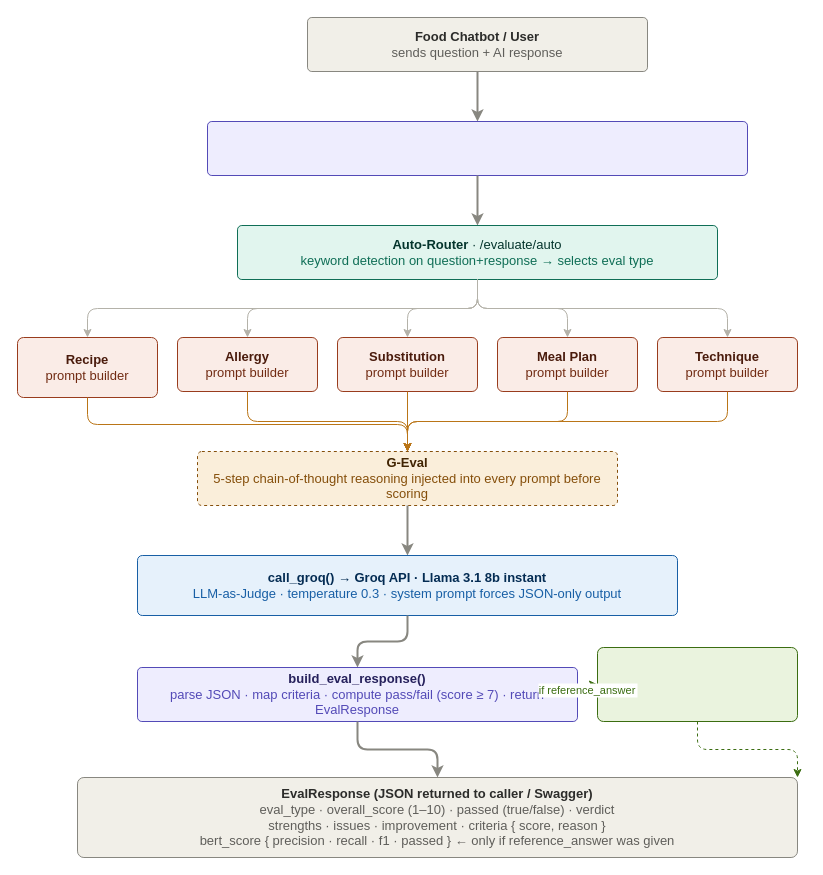
Image size: 823x875. Some labels were removed from this diagram. The box of each missing label's shape, as (x1, y1, x2, y2) in pixels:
BERTScore optional · needs reference_answer · F1 ≥ 0.85 = pass: (596, 646, 798, 722)
FastAPI Backend POST /evaluate/{type} · Pydantic validation · CORS middleware: (206, 120, 748, 176)
